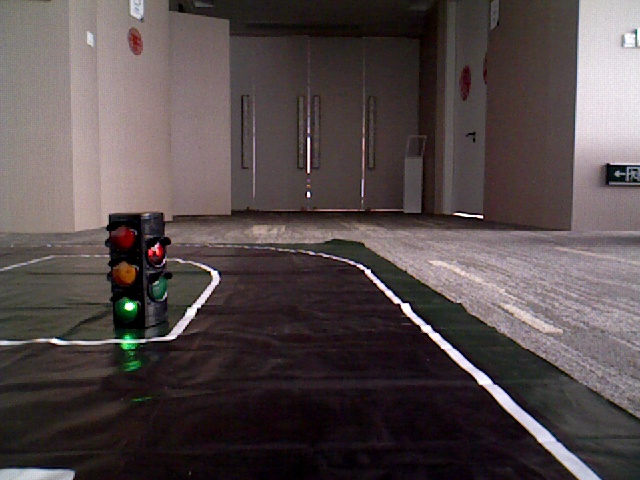green: (108, 216, 148, 327)
